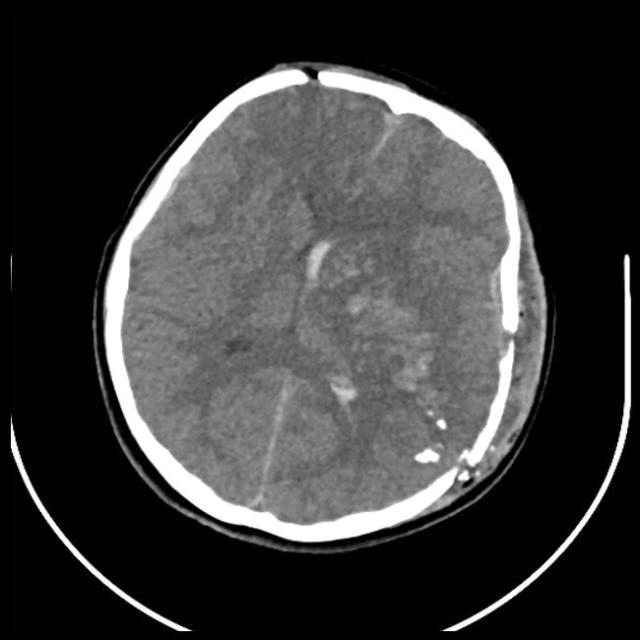lesion: (98, 63, 550, 541)
